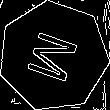M_E: (22, 26, 85, 87)
